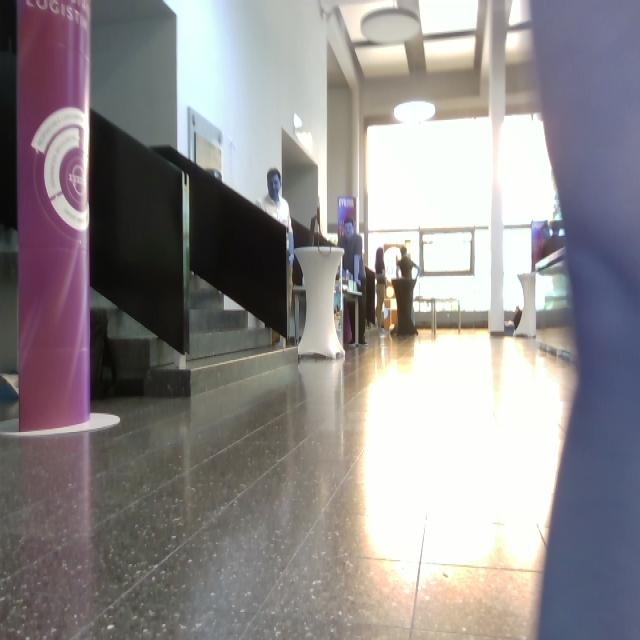light bulb: (360, 1, 422, 45), (394, 101, 436, 124)
person: (256, 168, 295, 345), (337, 216, 369, 346)
pillar: (16, 1, 92, 432), (487, 1, 511, 334)
table: (292, 244, 349, 365)
tiled floor: (2, 322, 580, 640)
